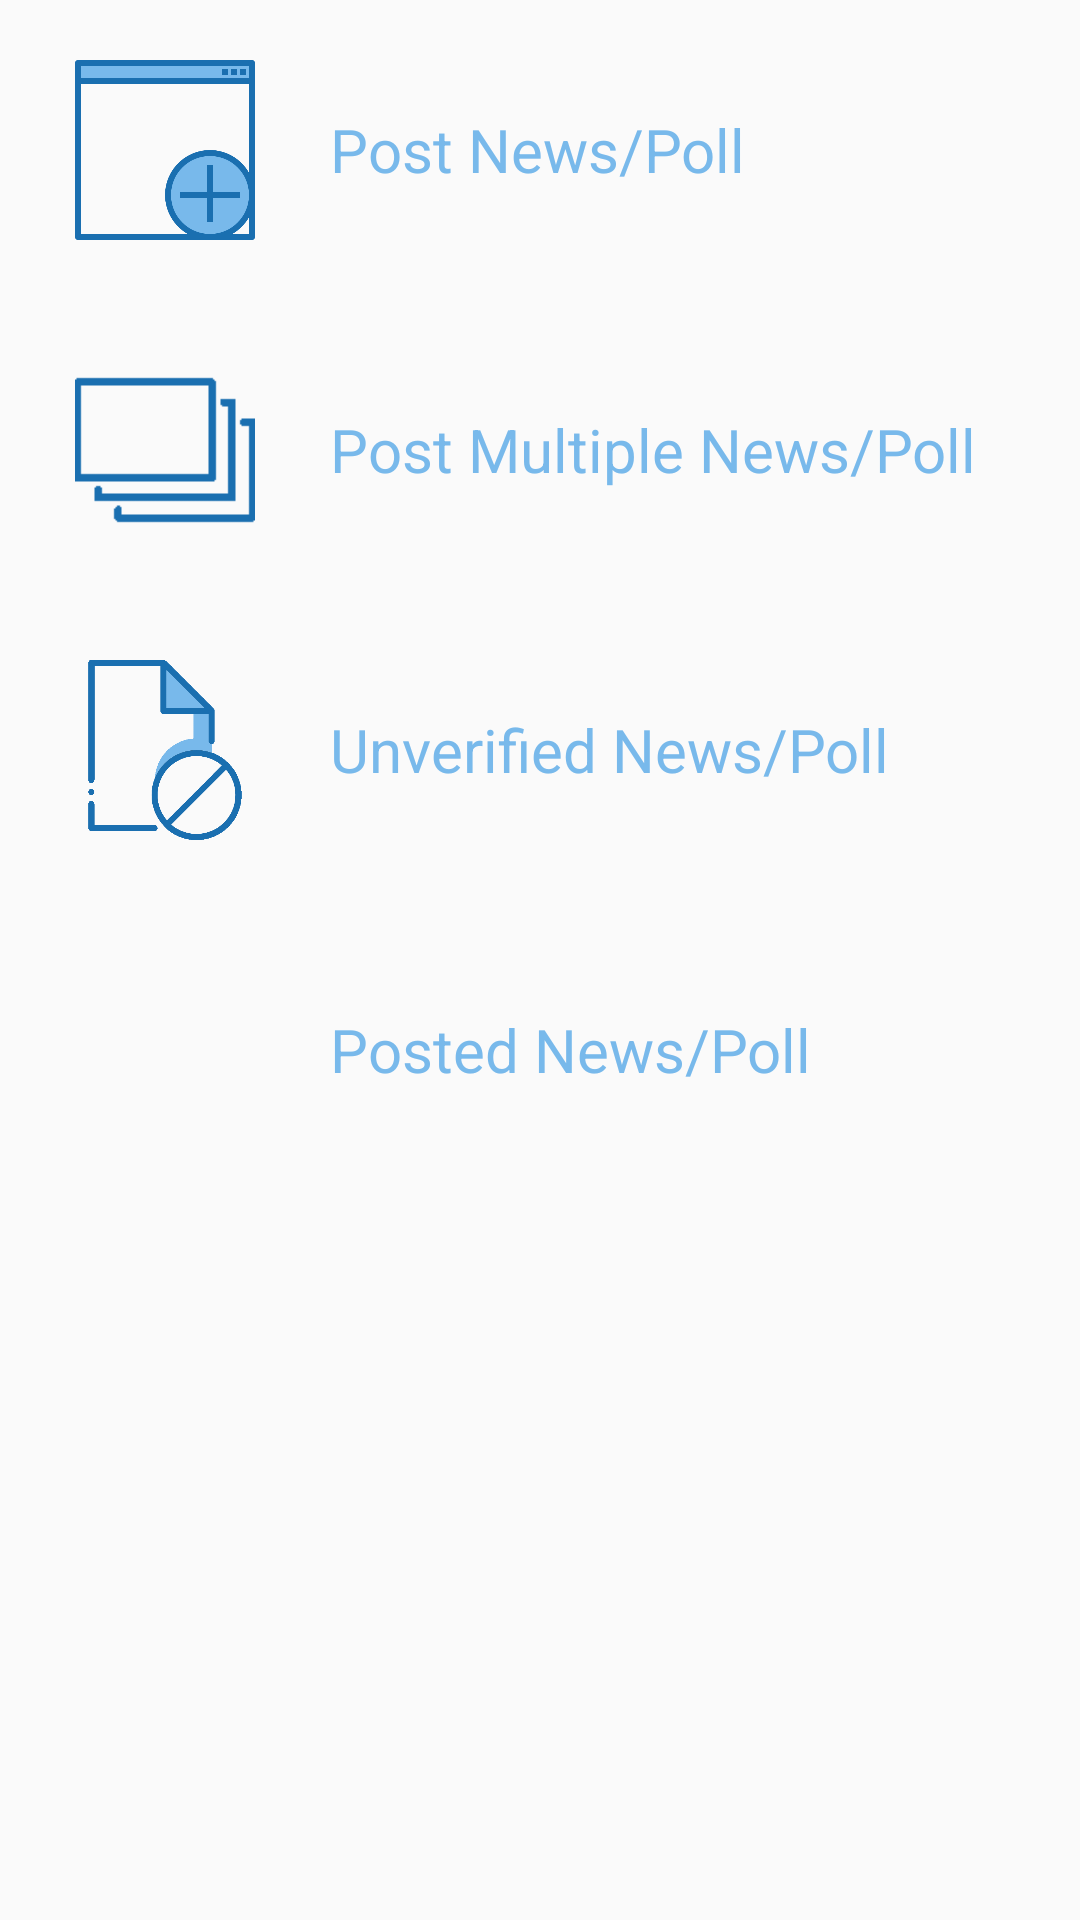

Icon click points for this 1080×1920 phone screenshot, format [x,y]:
neww: [165,150]
